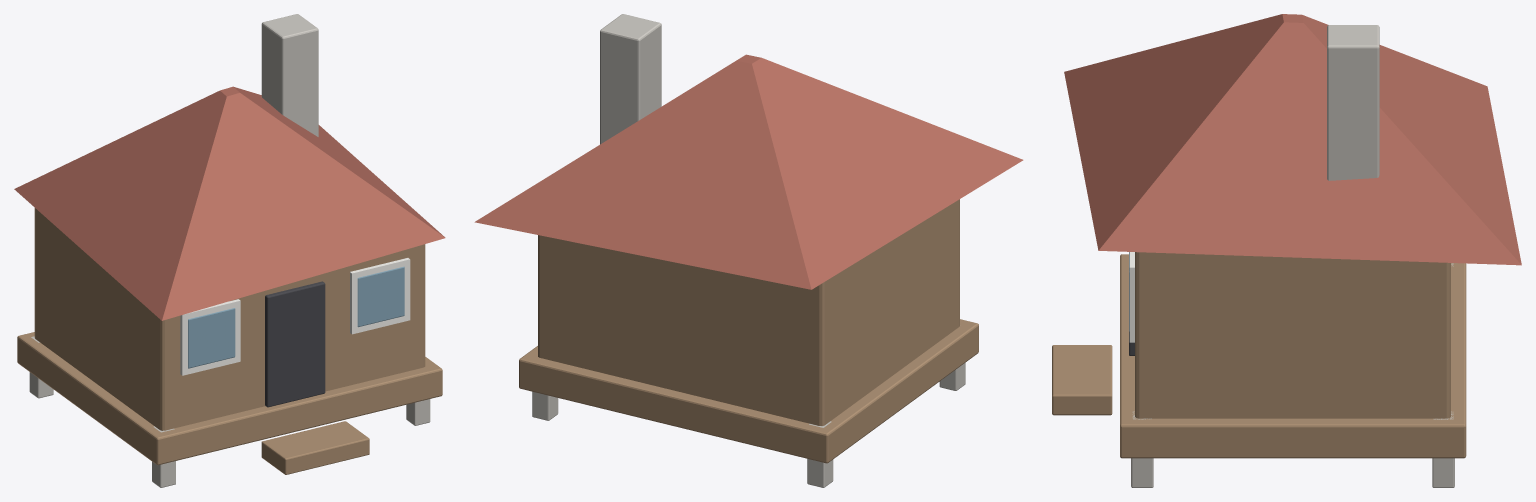
The model's file is hut.glb.
3 views of the same model, side by side, from view 1: azimuth 30°, elevation 25°; view 2: azimuth 150°, elevation 25°; view 3: azimuth 270°, elevation 25° (orthographic). The views are drawn at different scales.
Visible parts, largest first — view 1: Cone, walls, floor, door, chimney, steps, win, win.001, frame.001, frame, post, post.002; view 2: Cone, walls, floor, chimney, post.001, post.003; view 3: Cone, walls, floor, chimney, steps, post.003, post.002, frame.001.
Part boxes in pixels (<box>): Cone: <box>14,86,445,320</box>; walls: <box>34,208,425,430</box>; floor: <box>17,332,442,465</box>; door: <box>265,281,325,407</box>; chimney: <box>261,14,318,136</box>; steps: <box>261,421,369,474</box>; win: <box>188,308,235,368</box>; win.001: <box>357,266,404,327</box>; frame.001: <box>350,258,410,334</box>; frame: <box>180,299,240,375</box>; post: <box>152,426,175,487</box>; post.002: <box>406,399,430,425</box>; Cone: <box>474,54,1023,289</box>; walls: <box>538,199,959,425</box>; floor: <box>519,319,978,463</box>; chimney: <box>600,14,661,144</box>; post.001: <box>807,421,833,487</box>; post.003: <box>532,391,558,420</box>; Cone: <box>1064,14,1521,265</box>; walls: <box>1135,252,1450,418</box>; floor: <box>1120,254,1466,458</box>; chimney: <box>1327,25,1379,180</box>; steps: <box>1052,345,1112,415</box>; post.003: <box>1432,411,1454,487</box>; post.002: <box>1131,411,1153,487</box>; frame.001: <box>1129,252,1134,342</box>.
Size of the model in its own units: 6.08 by 6.2 by 6.24.
